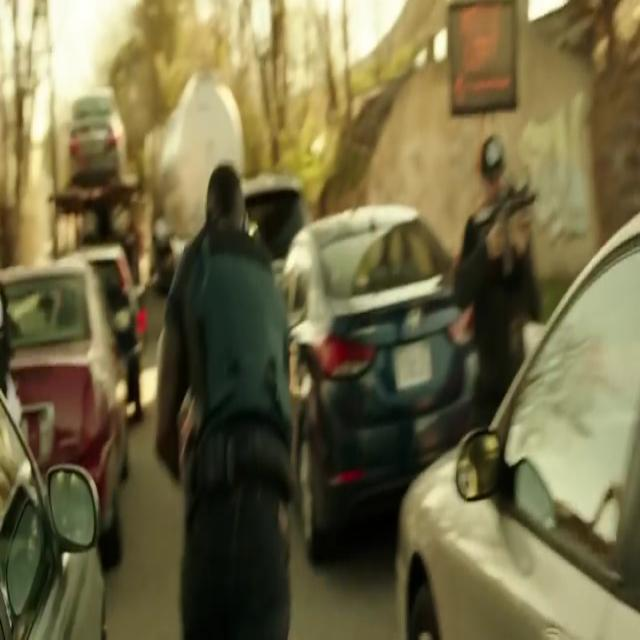Weapon: (469, 177, 556, 236)
